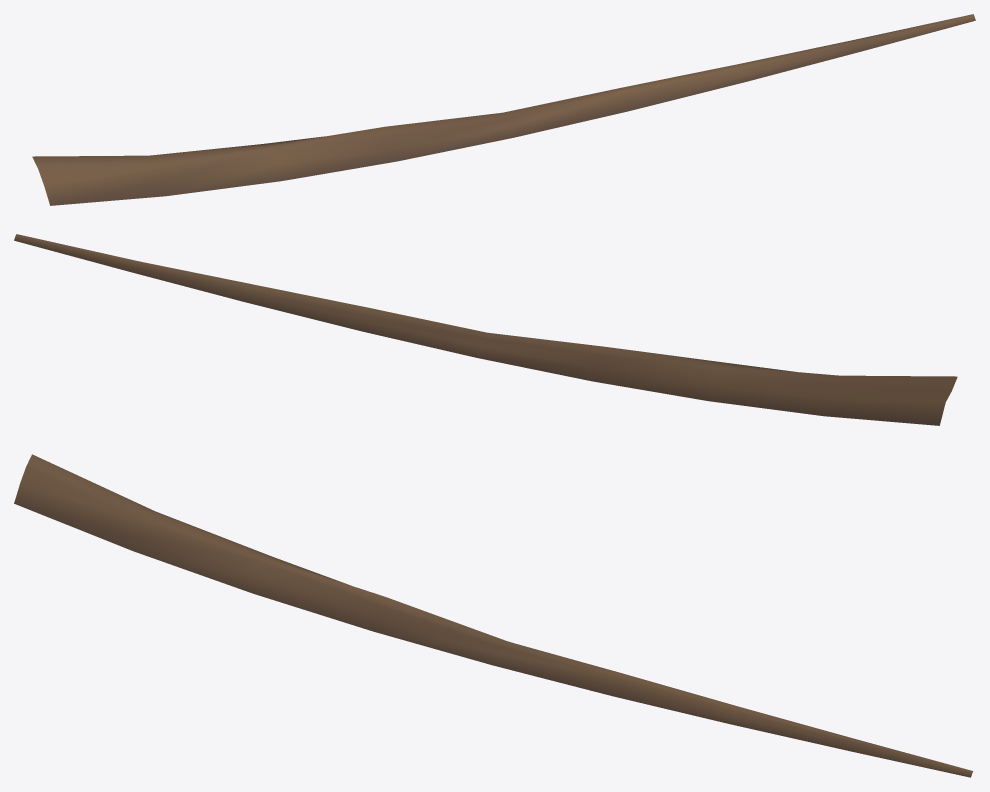
Rendered from glow.root-v1.glb.
The picture shows the model from 3 angles, top to bottom: view 1: azimuth 30°, elevation 25°; view 2: azimuth 150°, elevation 25°; view 3: azimuth 330°, elevation 25°; orthographic projection.
Visible parts, largest first — view 1: glow.root; view 2: glow.root; view 3: glow.root.
Part boxes in pixels (x1,y1,x2,y2): glow.root: [32, 14, 975, 205]; glow.root: [14, 234, 957, 425]; glow.root: [14, 454, 973, 777].
Size of the model in its own units: 3.6 by 0.3414 by 0.24.
